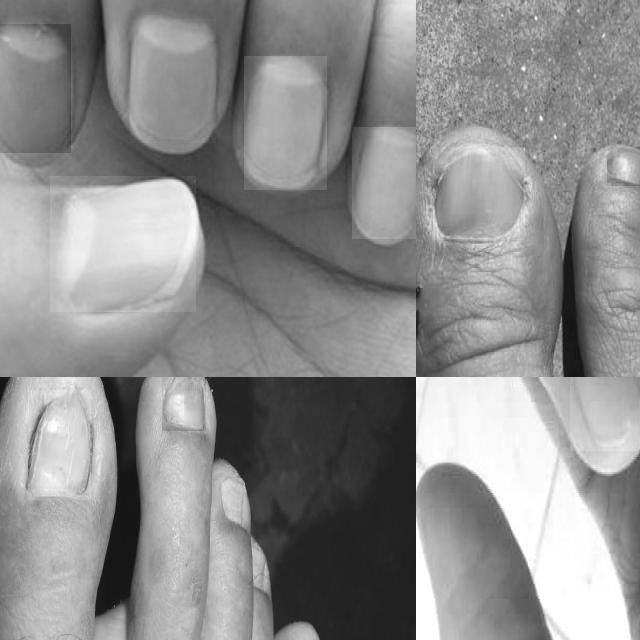diabetes: (433, 147, 525, 240), (28, 390, 91, 500), (163, 377, 206, 431), (607, 147, 640, 185), (220, 478, 245, 523)
sehat: (50, 177, 196, 312), (244, 56, 327, 190), (130, 19, 216, 143), (0, 25, 71, 153), (352, 128, 416, 239), (570, 377, 640, 451)
